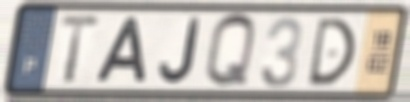3: (260, 14, 304, 90)
A: (93, 15, 149, 86)
D: (305, 15, 358, 88)
J: (157, 15, 203, 86)
Q: (203, 11, 259, 92)
T: (56, 14, 104, 87)
